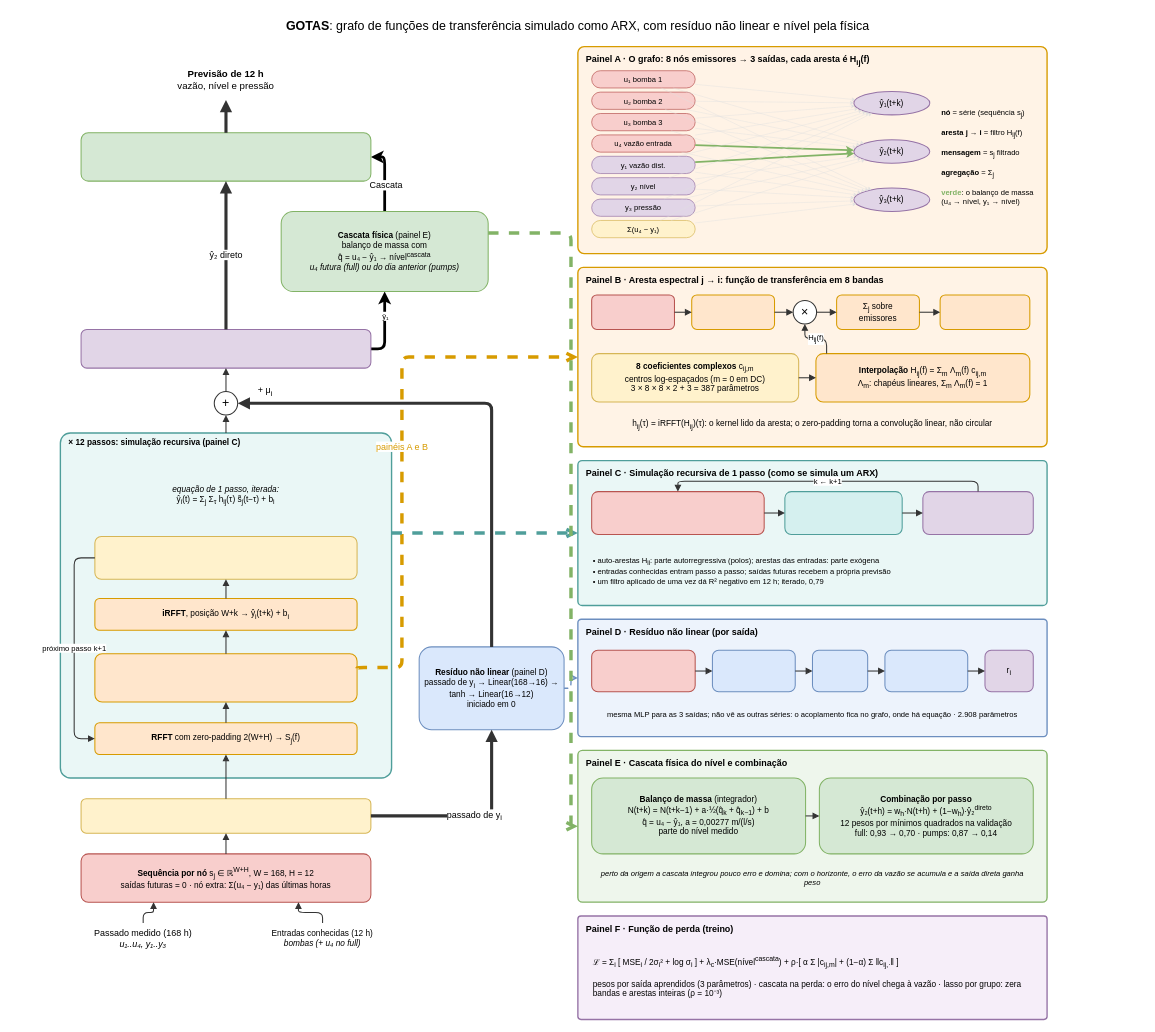
The diagram is 1155 pixels wide and 1032 high, and some of its shapes have lost their labels. Here are the shapes that lost their labels. From the top down, the centre of each, then its label:
the point at 225,156: Nível combinado (painel E) ŷ₂(t+h) = w h ·cascata + (1 − w h )·direto
the point at 633,312: s̃ j (t) W+H amostras
the point at 733,312: RFFT n = 2(W+H)
the point at 984,312: iRFFT → ŷ i
the point at 225,348: Saídas diretas ŷ₁ vazão · ŷ₃ pressão · ŷ₂ direto nível
the point at 677,513: sequência no passo k: [ passado 168 h | ŷ(t+1..t+k−1) | 0 … ]
the point at 843,513: filtro de 1 passo na posição W+k
the point at 977,513: ŷ(t+k)
the point at 225,557: Escreve ŷ(t+k) na sequência a saída futura k passa a ser a própria previsão
the point at 225,677: Grafo de filtros (painéis A e B) Y i (f) = Σ j H ij (f) · S j (f)
the point at 643,670: passado centrado de y i (168)
the point at 753,670: Linear 168 → 16
the point at 840,670: tanh
the point at 926,670: Linear 16 → 12 (início = 0)
the point at 225,815: Centralização s̃ j = s j − μ j (μ do passado; sem dividir por σ)
